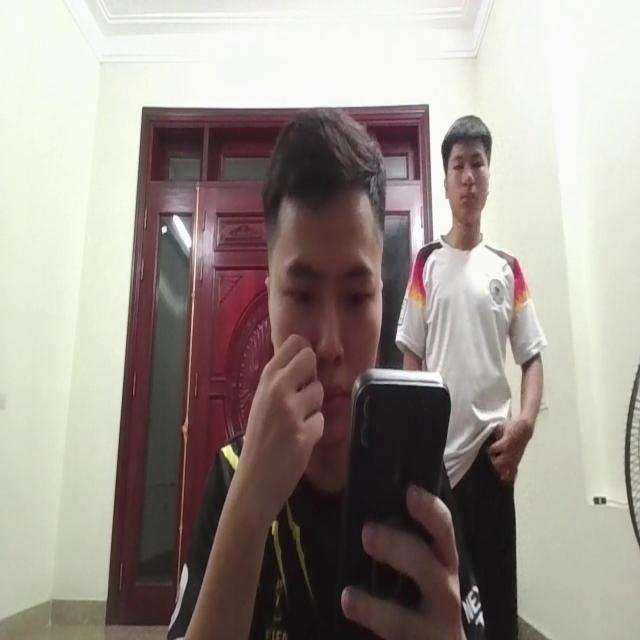extra_person: (414, 111, 530, 506)
phone: (346, 363, 441, 628)
student: (220, 98, 390, 640)
